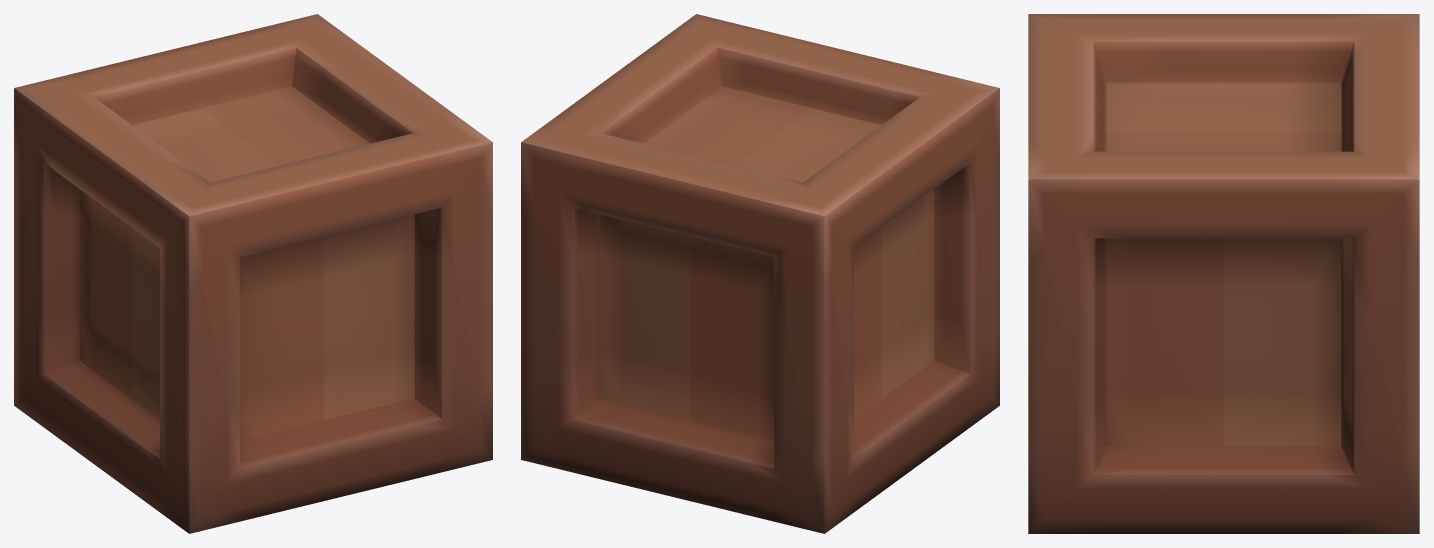
The model's file is prop_crate_big.glb.
The picture shows the model from 3 angles, left to right: view 1: azimuth 30°, elevation 25°; view 2: azimuth 150°, elevation 25°; view 3: azimuth 270°, elevation 25°; orthographic projection. The views are drawn at different scales.
Visible parts, largest first — view 1: refined; view 2: refined; view 3: refined.
Part boxes in pixels (bbox=[...]): refined: bbox=[14, 14, 492, 533]; refined: bbox=[521, 14, 999, 533]; refined: bbox=[1028, 14, 1419, 533].
Size of the model in its own units: 0.21 by 0.21 by 0.21.
